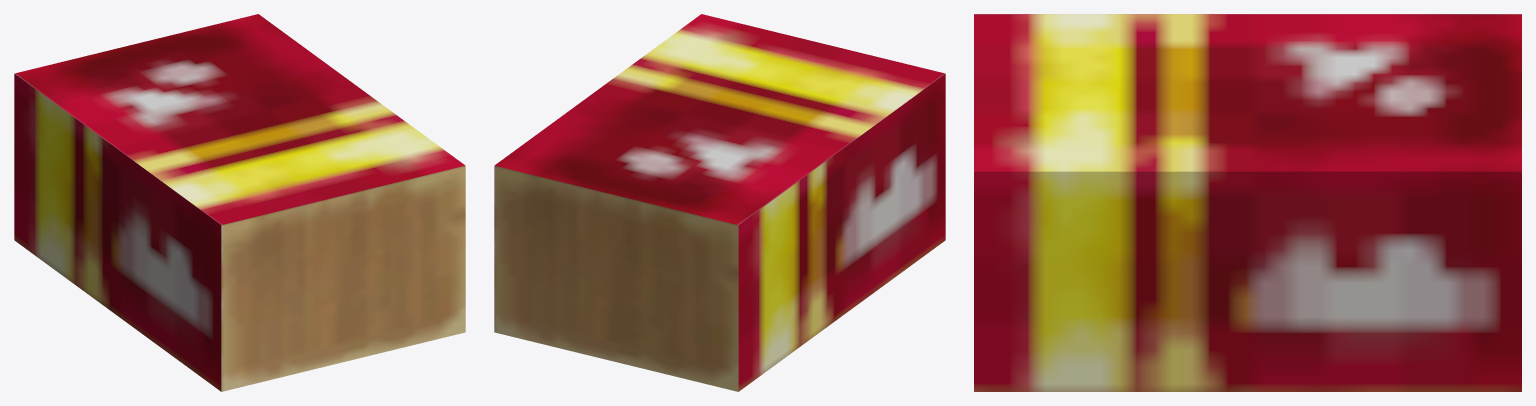
Rendered from gunshopammoboxred.obj.
3 renders of one model, left to right at view 1: azimuth 30°, elevation 25°; view 2: azimuth 150°, elevation 25°; view 3: azimuth 270°, elevation 25°, orthographic. The views are drawn at different scales.
Parts seen in each view (by area): view 1: gunshopammoboxred; view 2: gunshopammoboxred; view 3: gunshopammoboxred.
Boxes of the visible parts, left/top/right/bottom form: gunshopammoboxred: left=14, top=14, right=465, bottom=391; gunshopammoboxred: left=494, top=14, right=945, bottom=391; gunshopammoboxred: left=974, top=14, right=1521, bottom=391.
Bounding box in the file's own units: 0.2511 × 0.1638 × 0.3689.
1 material, 1 textured.
